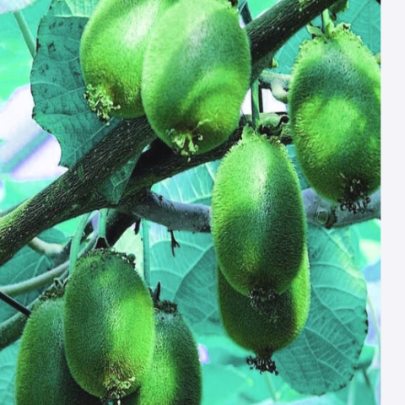kiwi: (274, 28, 405, 228), (196, 122, 320, 306), (139, 0, 275, 155), (52, 247, 163, 397)
